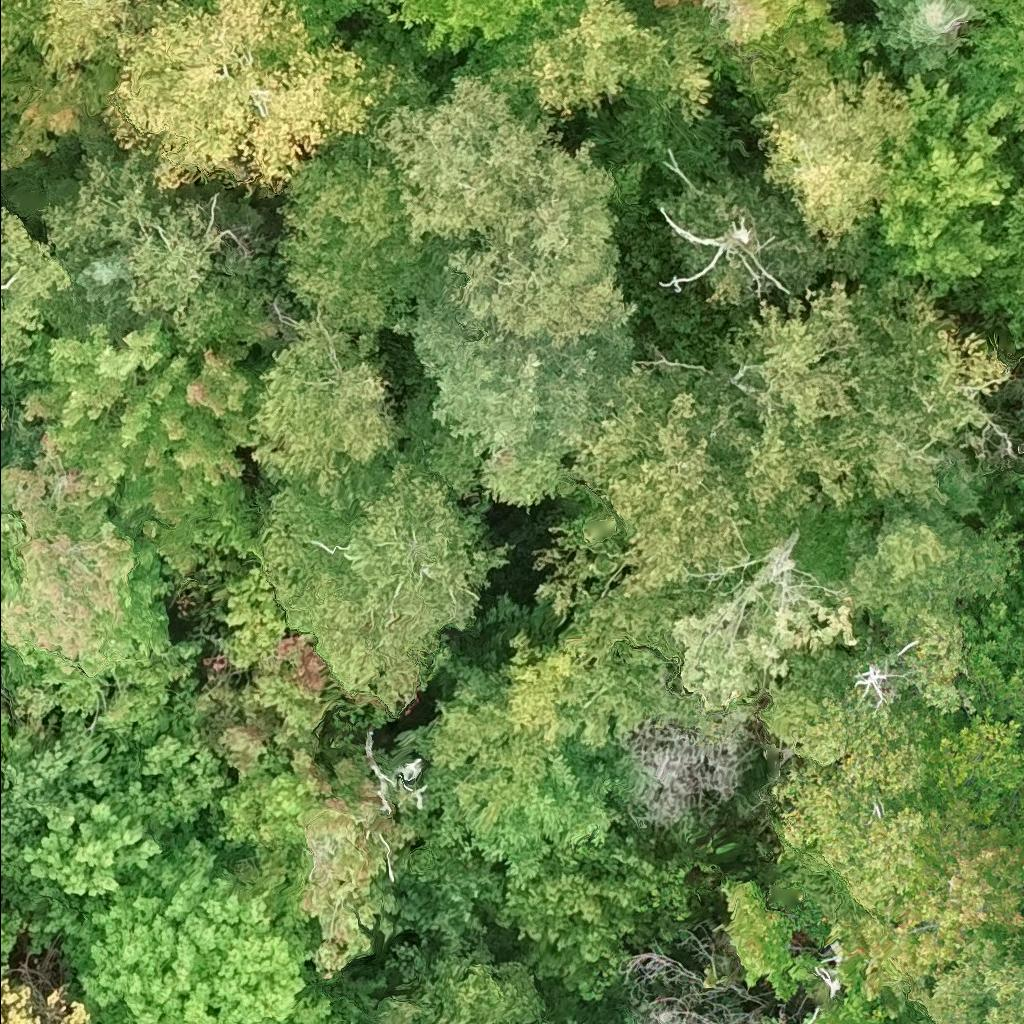crown: (697, 273, 1016, 523), (261, 442, 509, 713), (22, 316, 264, 573), (381, 267, 634, 509), (29, 837, 353, 1023), (97, 0, 400, 197), (36, 132, 278, 371), (0, 428, 173, 690), (214, 740, 396, 981), (568, 361, 751, 598), (443, 137, 638, 349), (771, 687, 952, 911), (837, 497, 1023, 712), (831, 797, 1023, 1003), (748, 25, 912, 256), (278, 135, 471, 327), (369, 69, 561, 245), (874, 71, 1016, 302), (248, 312, 404, 514), (429, 752, 632, 891), (511, 0, 716, 129), (491, 865, 629, 1000), (0, 725, 124, 850), (0, 37, 111, 173), (622, 722, 760, 830), (580, 829, 695, 952), (624, 922, 764, 1023), (22, 790, 148, 899), (377, 950, 542, 1023), (722, 882, 817, 1005), (649, 0, 847, 57), (381, 0, 580, 55), (0, 205, 67, 366), (50, 240, 150, 347), (975, 131, 1023, 351), (905, 936, 1023, 1023), (874, 0, 984, 88), (28, 0, 135, 83), (0, 0, 44, 60), (0, 502, 24, 601), (971, 0, 1023, 25), (0, 904, 21, 956), (0, 403, 9, 429), (1020, 548, 1023, 553)
